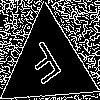F: (23, 39, 69, 94)
